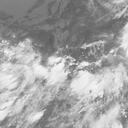cyclone: (39, 52, 99, 112)
